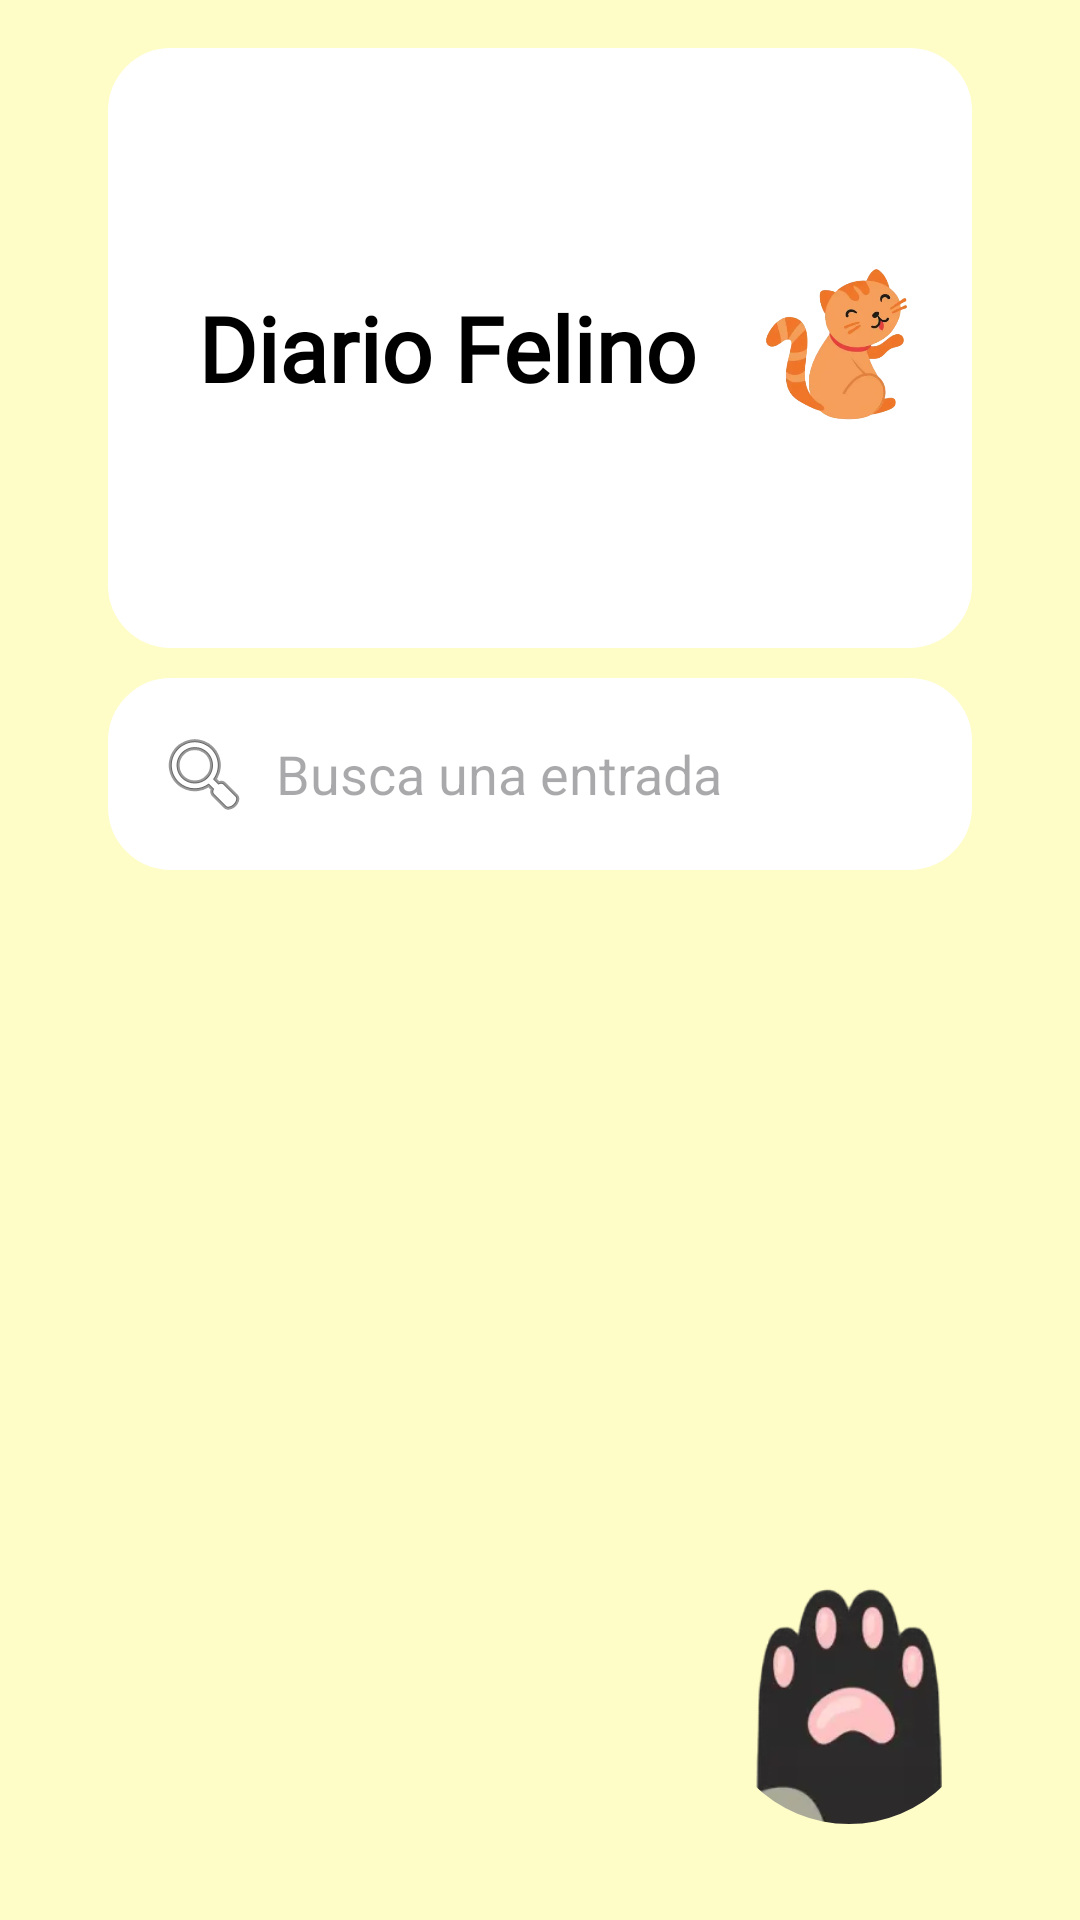

Icons on this 1080 x 1920 Android screen, each with the point to tap as [x,y]:
iconopata: [849,1706]
